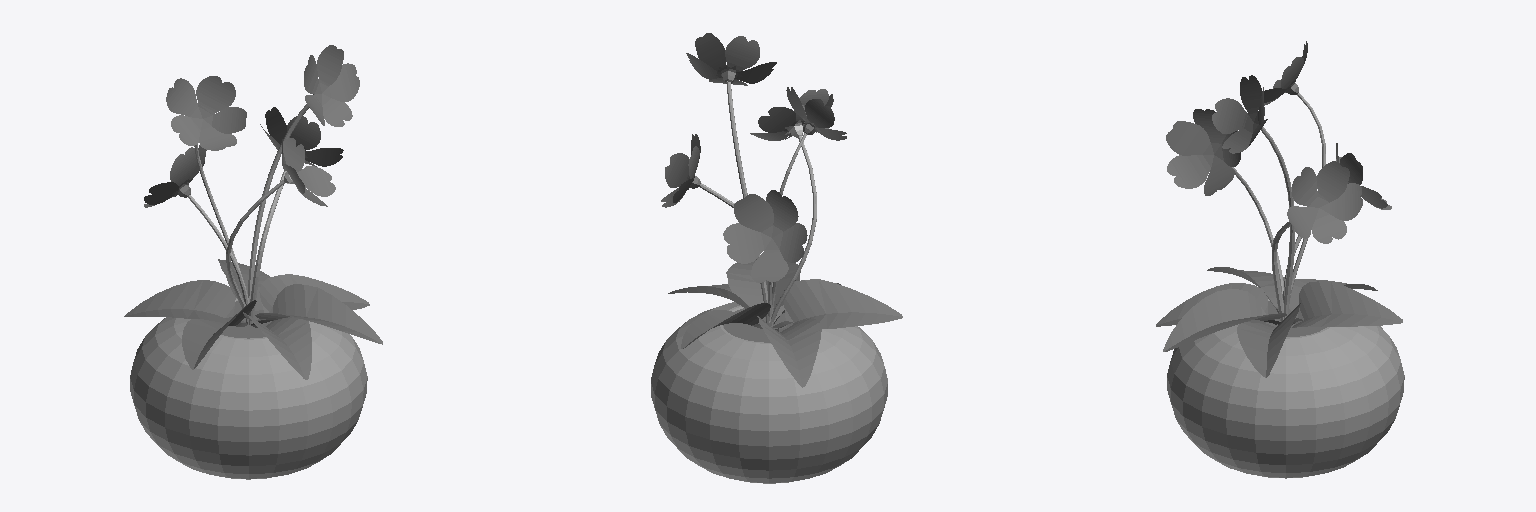
The model's file is PrimroseP.obj.
3 renders of one model, left to right at view 1: azimuth 30°, elevation 25°; view 2: azimuth 150°, elevation 25°; view 3: azimuth 270°, elevation 25°, orthographic.
Visible parts, largest first — view 1: plant, vase; view 2: vase, plant; view 3: vase, plant.
Part boxes in pixels (left/top/right/bottom): plant: left=124, top=45, right=382, bottom=379; vase: left=130, top=298, right=367, bottom=479; vase: left=651, top=302, right=887, bottom=483; plant: left=661, top=33, right=902, bottom=387; vase: left=1167, top=299, right=1404, bottom=478; plant: left=1156, top=41, right=1402, bottom=377.
Size of the model in its own units: 0.5813 by 1.04 by 0.5848.